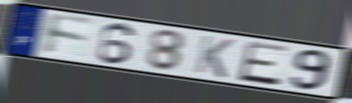6: (96, 21, 136, 66)
8: (146, 28, 187, 72)
9: (288, 48, 335, 93)
E: (236, 39, 292, 88)
F: (42, 11, 95, 57)
K: (192, 33, 236, 80)
